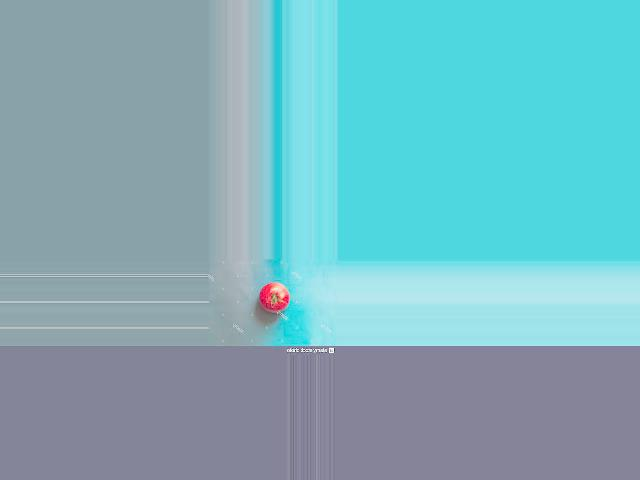tomato: (258, 282, 289, 313)
